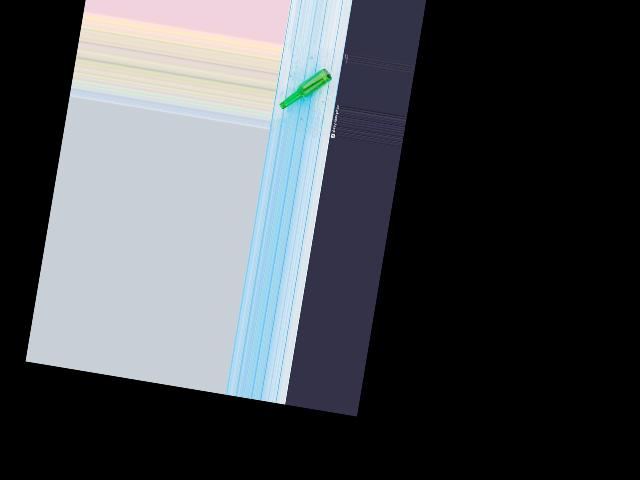beer: (279, 61, 334, 116)
